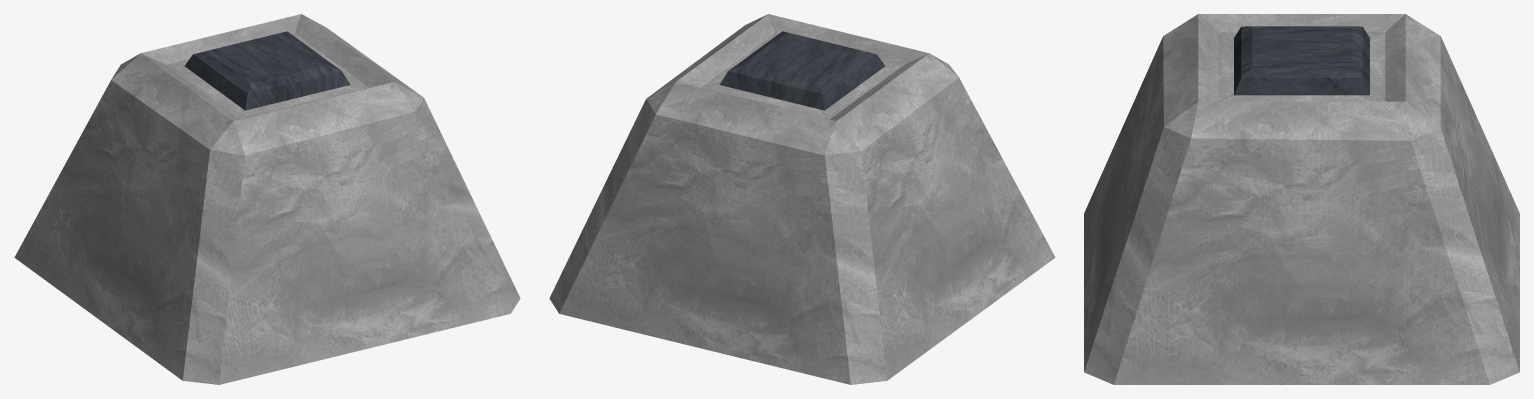
File: Button01.glb
The picture shows the model from 3 angles, left to right: view 1: azimuth 30°, elevation 25°; view 2: azimuth 150°, elevation 25°; view 3: azimuth 270°, elevation 25°; orthographic projection. The views are drawn at different scales.
Parts seen in each view (by area): view 1: Button01; view 2: Button01; view 3: Button01.
Boxes of the visible parts, x1,y1,x2,y2 form: Button01: (14, 14, 520, 384); Button01: (549, 14, 1055, 384); Button01: (1084, 14, 1519, 384).
Size of the model in its own units: 0.4367 by 0.2717 by 0.4367.
1 material, 1 textured.
